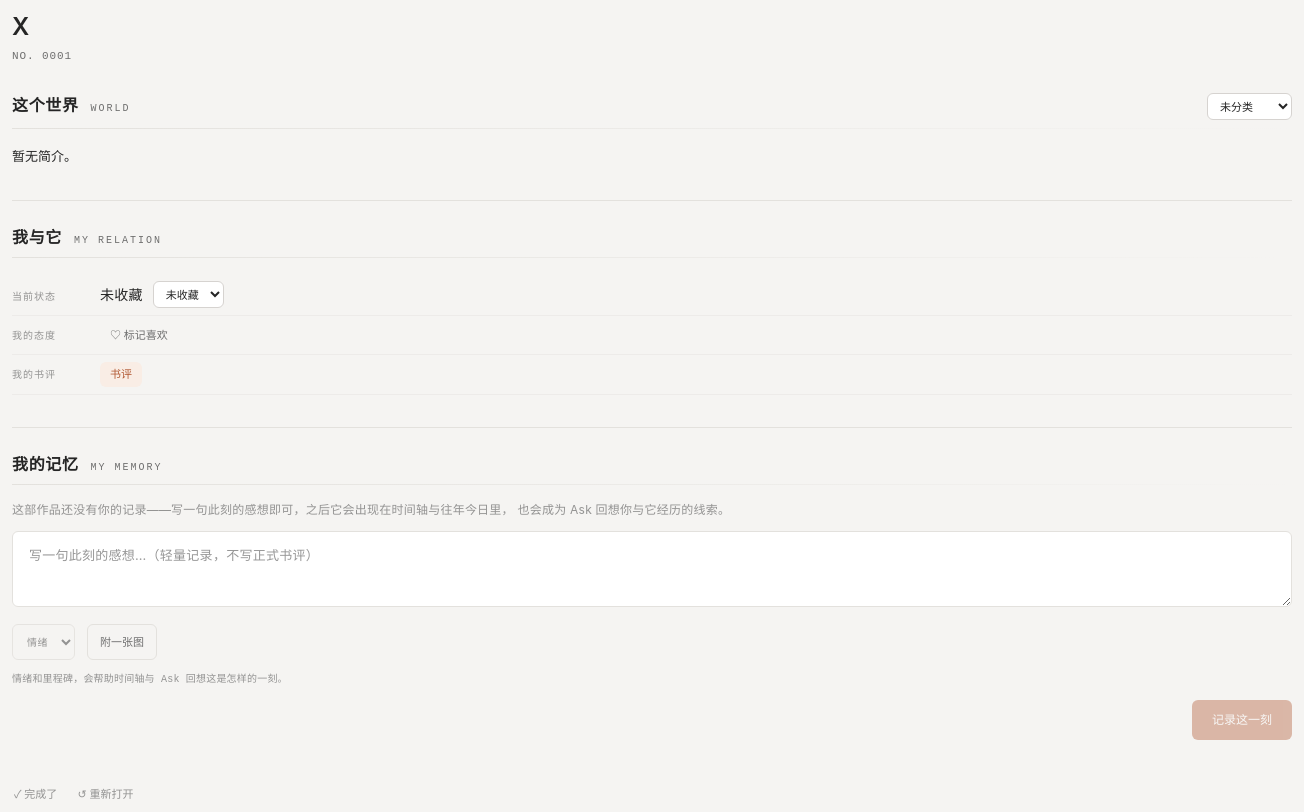
Test case: 我的记忆章节（Phase 3-2-D） › 文字记录失败：安静错误反馈且输入保留
Expected: the heading "X" is shown, [12, 12, 30, 41]
Type "要保留的文字" into the text box with placeholder "写一句此刻的感想…（轻量记录，不写正式书评）". click: [652, 569]
box: [12, 531, 1292, 607]
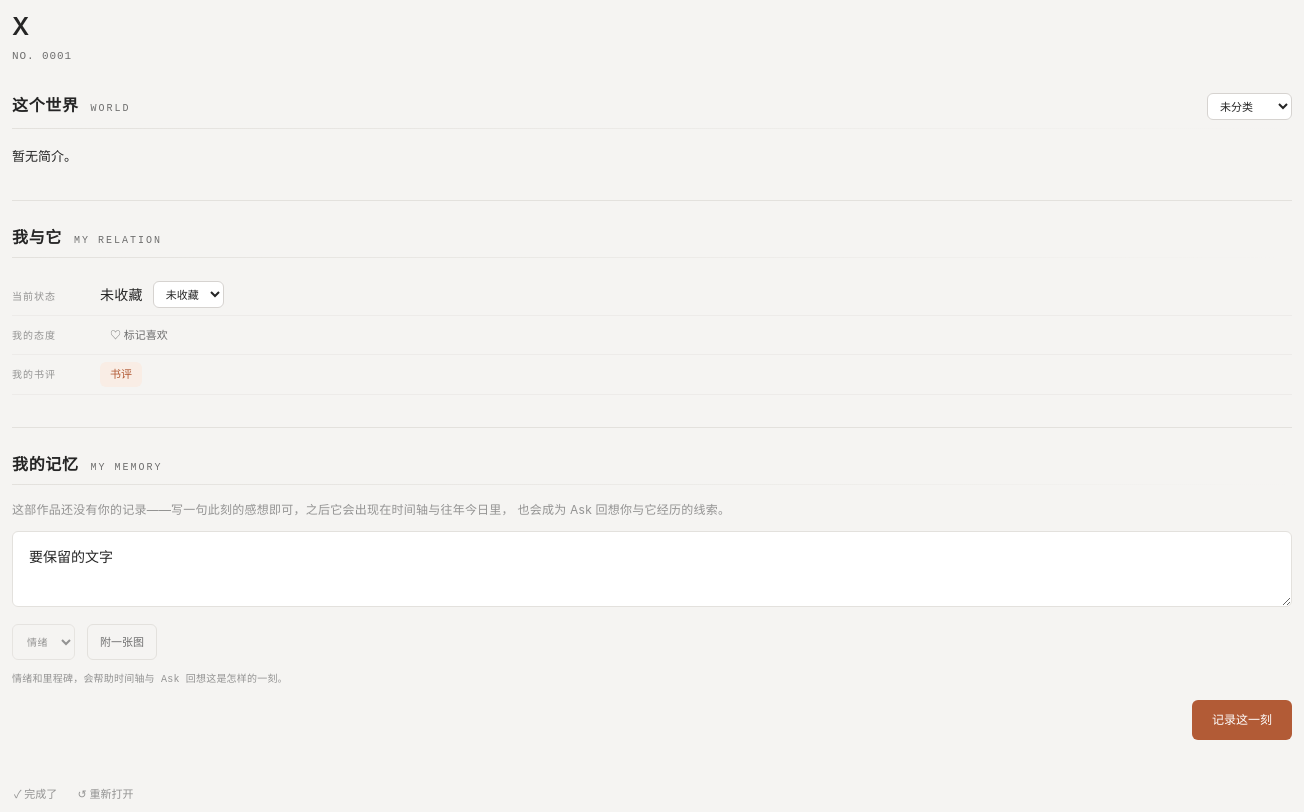
Click the button "记录这一刻". click: [1242, 720]
box: [1192, 700, 1292, 740]
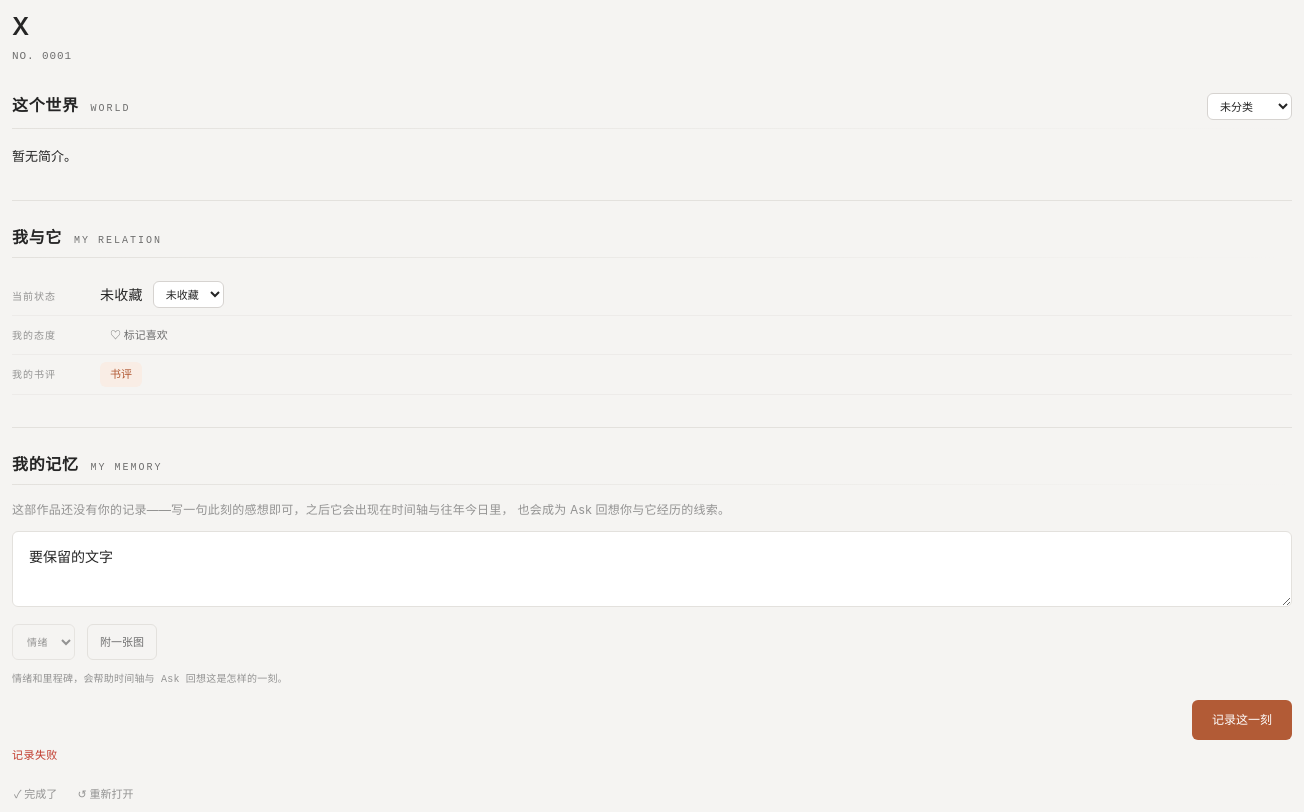
Result: the text "记录失败" is shown at [12, 750, 58, 762]
